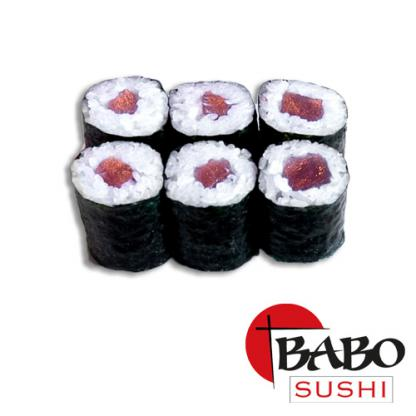tekkamaki: (68, 140, 182, 278)
